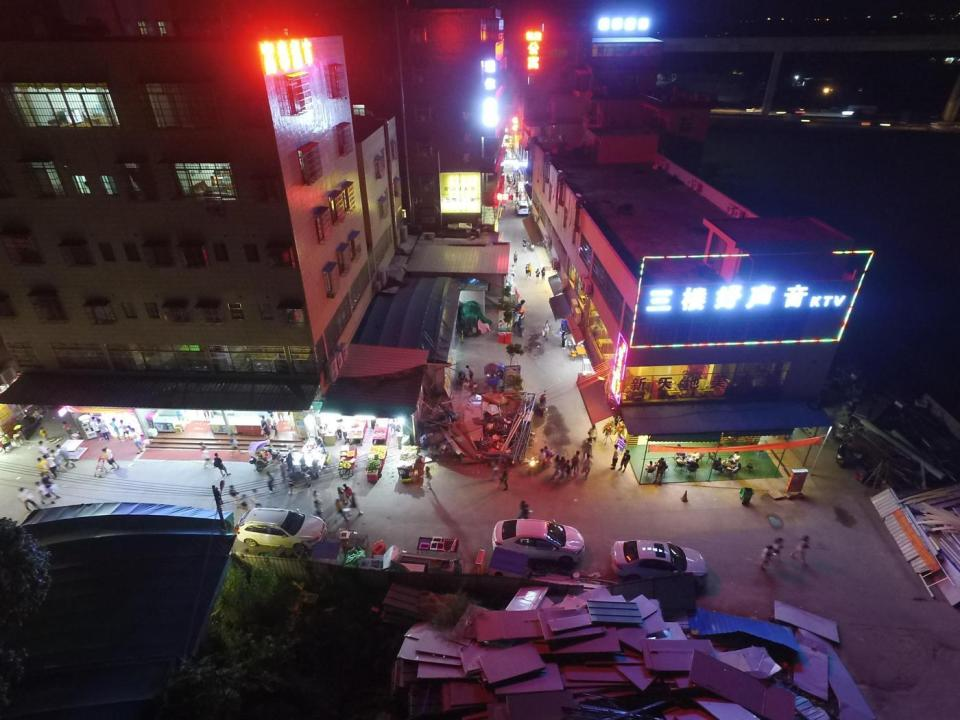car: (492, 518, 585, 567), (610, 539, 708, 584), (237, 508, 327, 554), (538, 390, 548, 418)
van: (514, 201, 530, 217)
